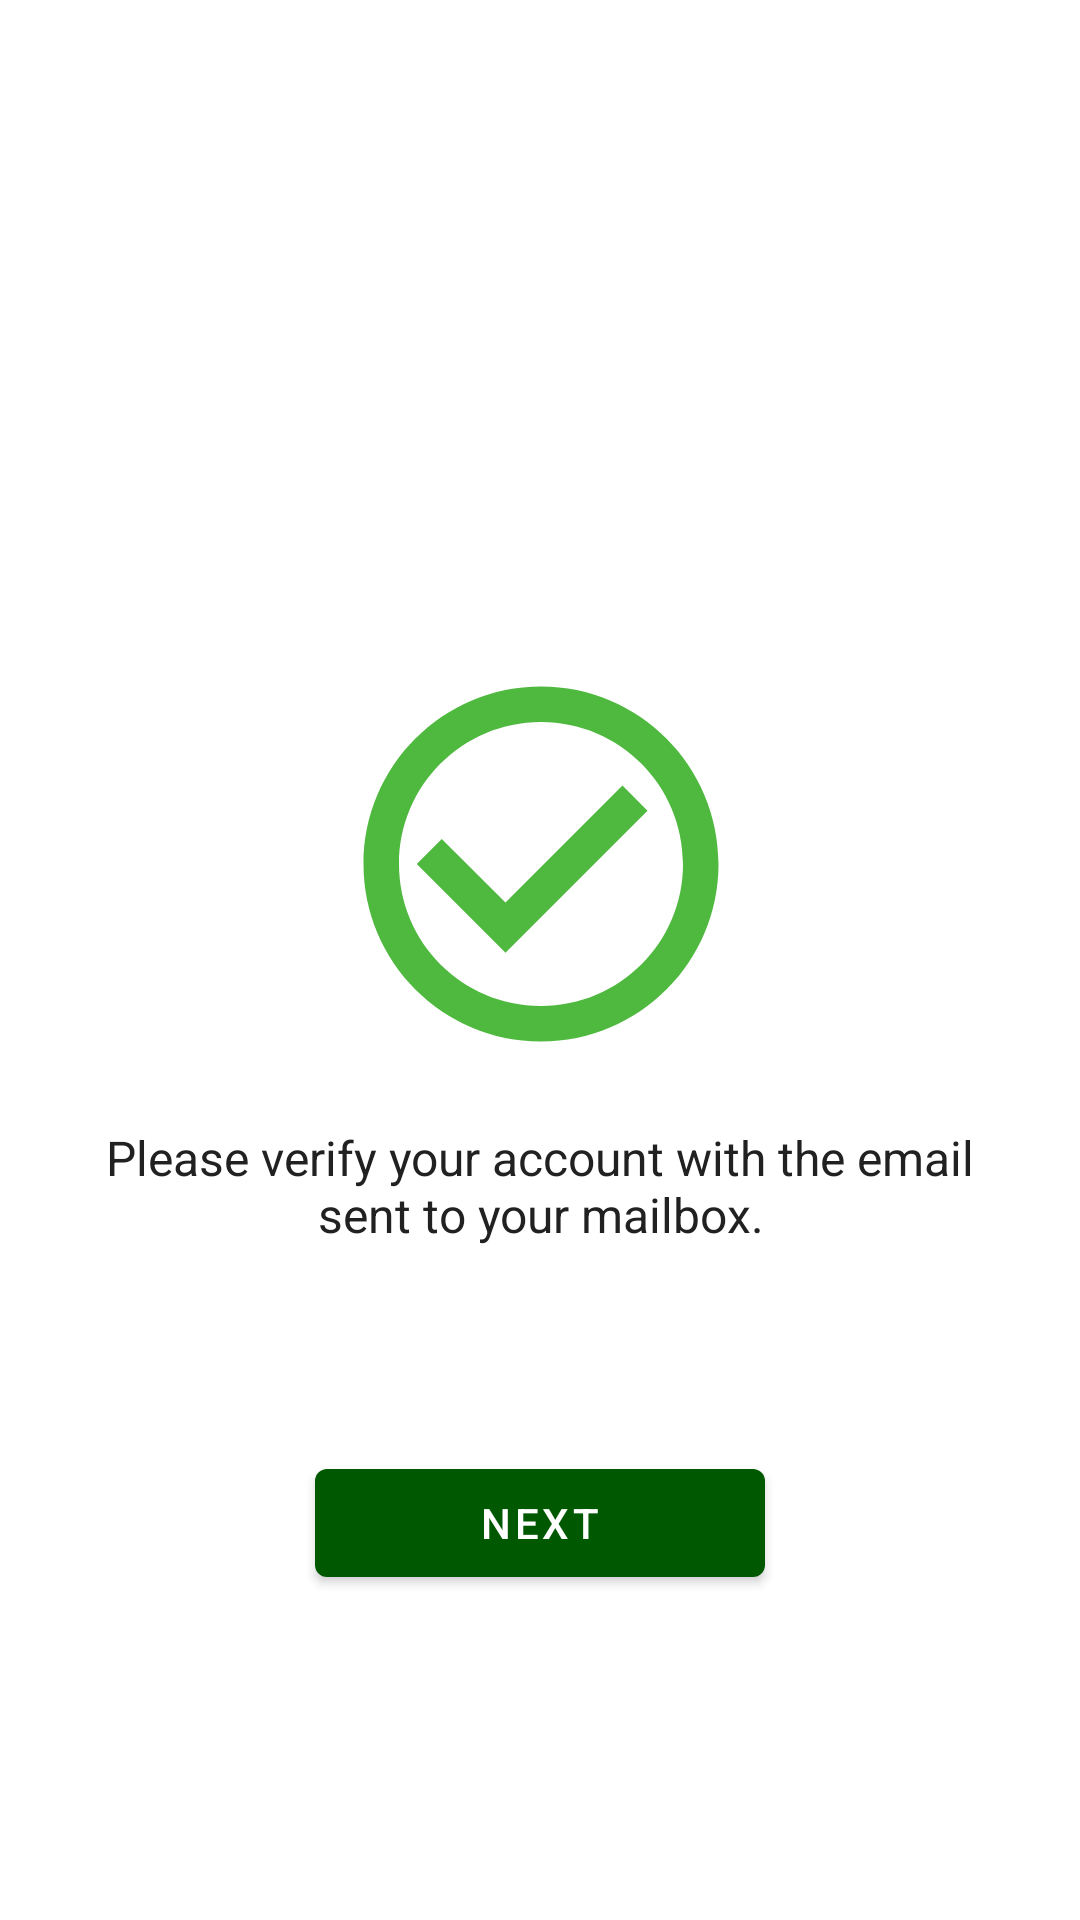

Point at icon controls on the screen. Image size 1080*1920, points as (x,y).
check circle: (541,864)
